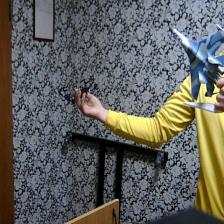drone: (57, 71, 101, 107)
